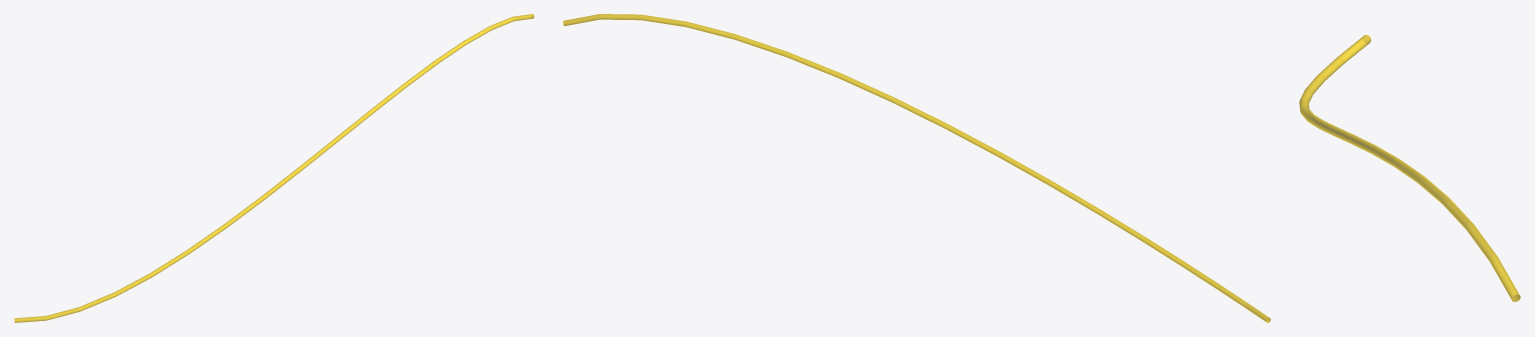
The model's file is Event_17758602_track_118.fbx.
3 renders of one model, left to right at view 1: azimuth 30°, elevation 25°; view 2: azimuth 150°, elevation 25°; view 3: azimuth 270°, elevation 25°, orthographic. The views are drawn at different scales.
Visible parts, largest first — view 1: Model; view 2: Model; view 3: Model.
Part boxes in pixels (x1=…): Model: x1=14, y1=14, x2=534, y2=322; Model: x1=563, y1=14, x2=1270, y2=322; Model: x1=1299, y1=35, x2=1520, y2=301.
Size of the model in its own units: 5.39 by 1.44 by 0.9276.
